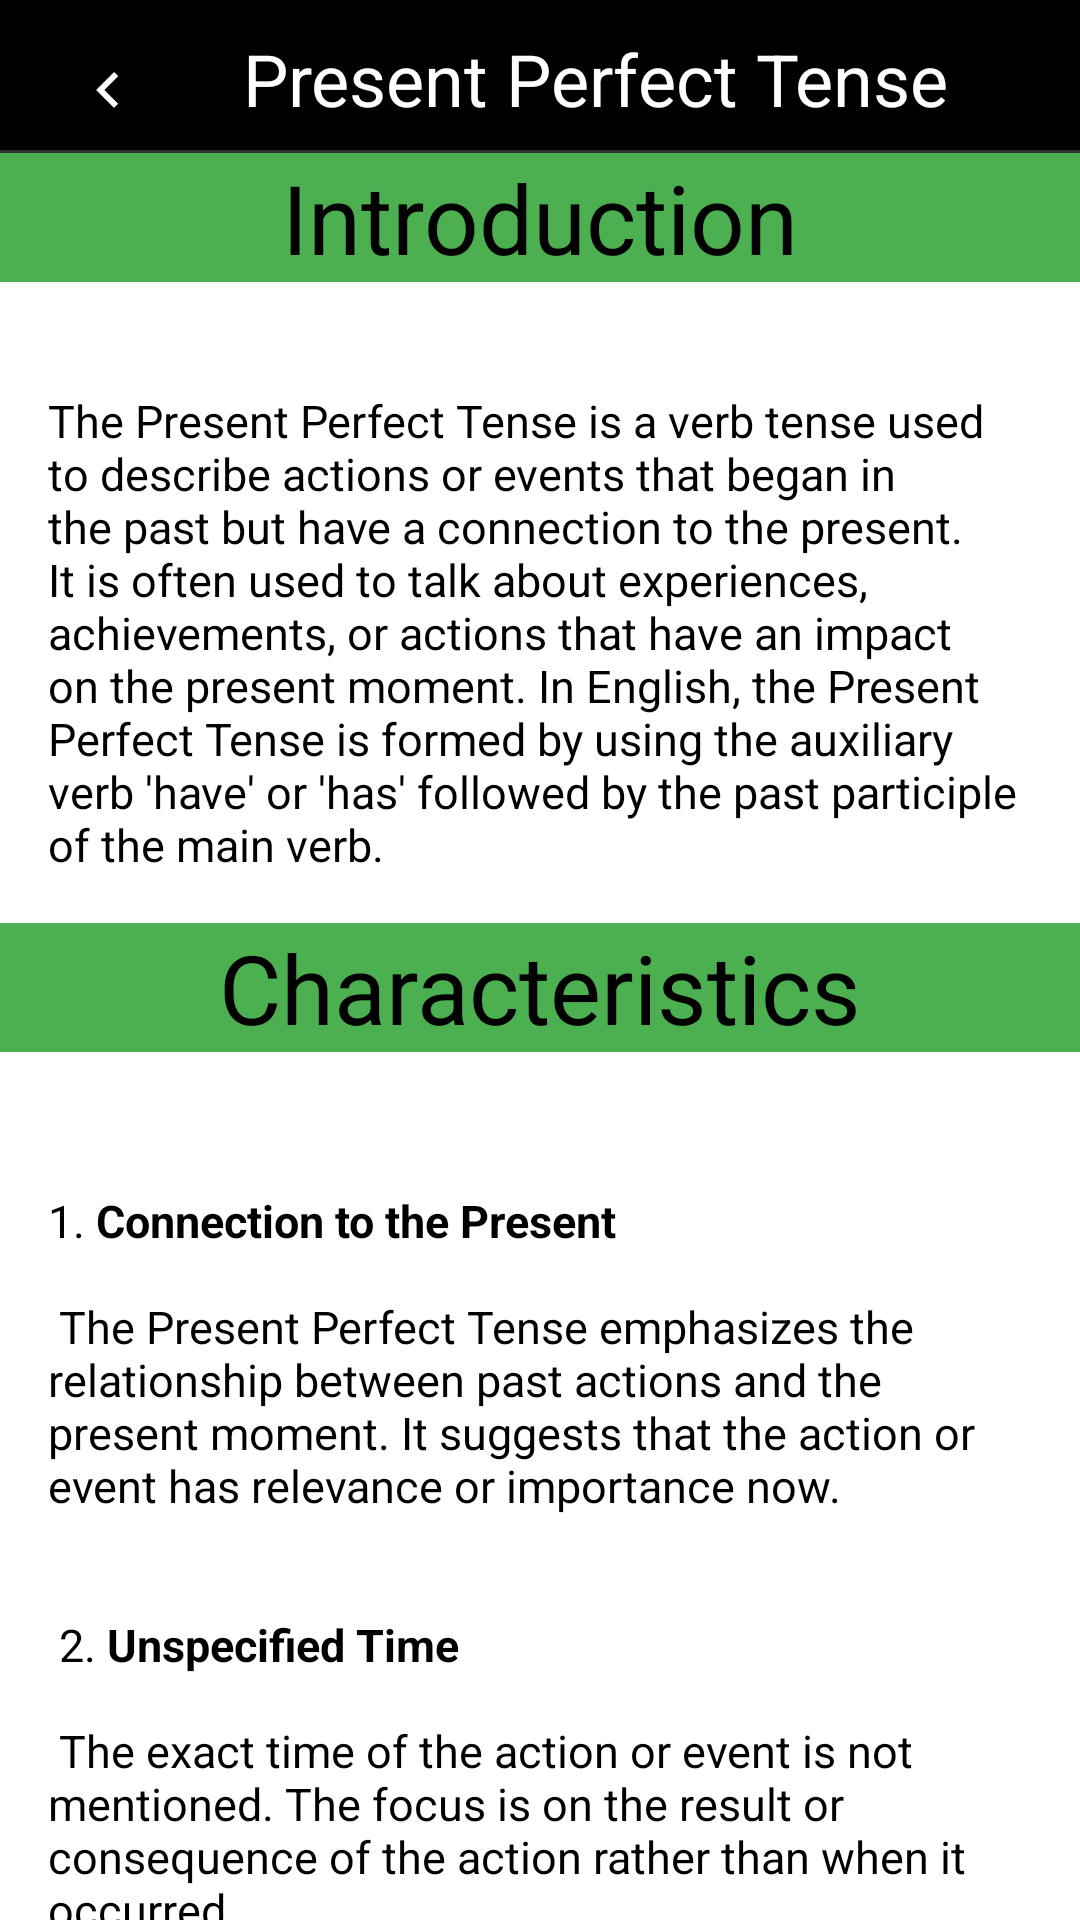

Icon click points for this 1080*1920 phone screenshot, format (x,y):
backbt: (107,90)
